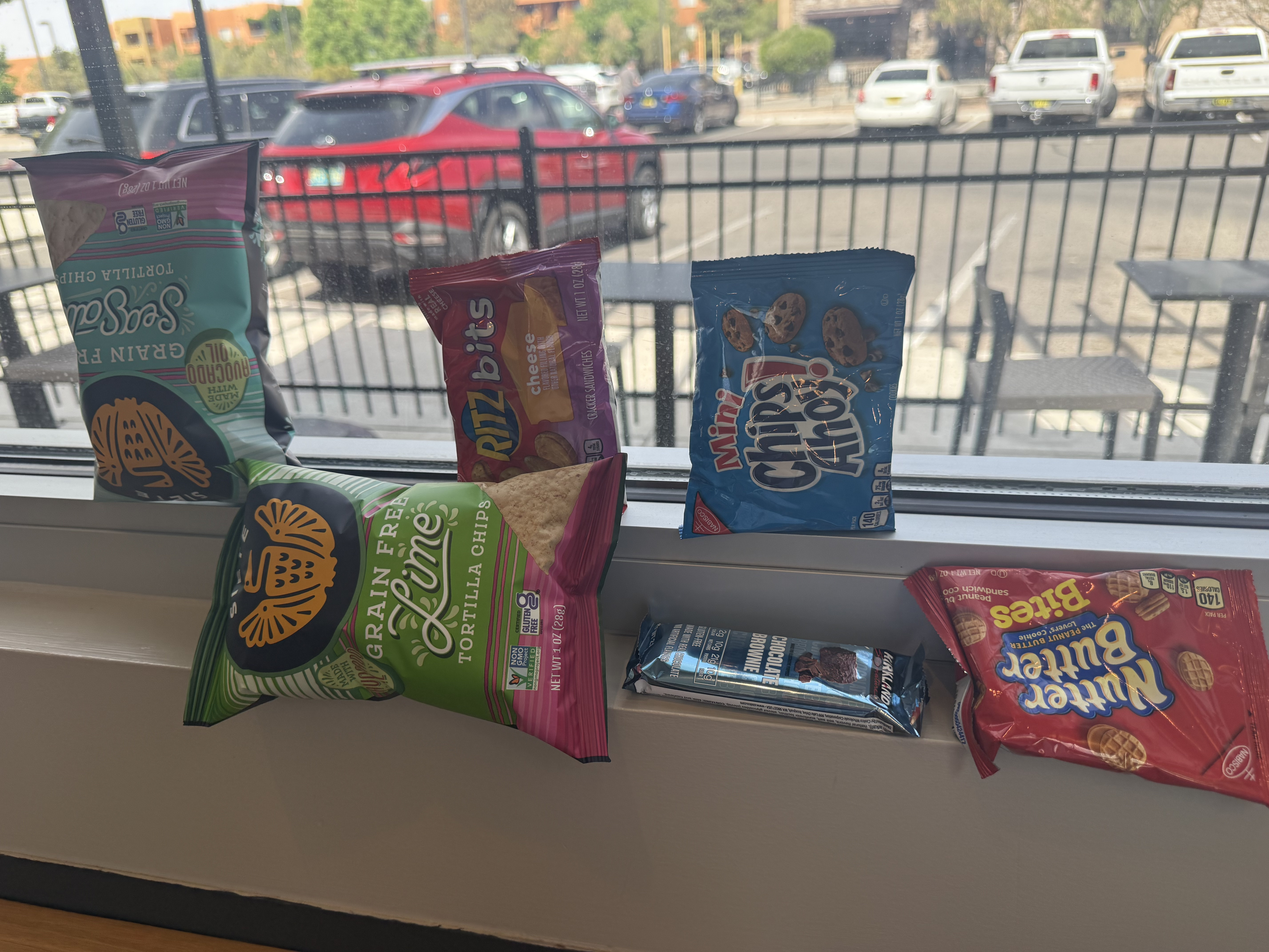chips_ahoy: (690, 262, 899, 540)
chocolate_brownie: (636, 611, 932, 703)
lime: (211, 488, 610, 722)
nutter_butter: (937, 566, 1267, 790)
ritz_cheese: (408, 270, 616, 467)
sea_salt: (27, 173, 235, 517)
